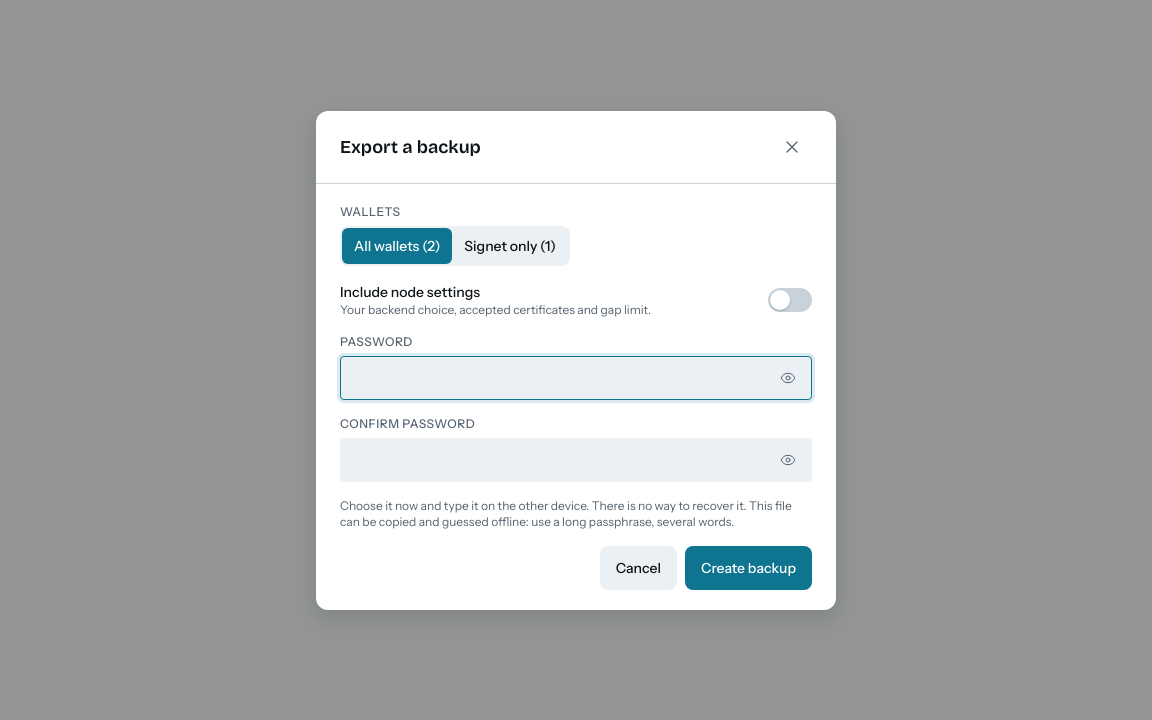
Test: exporting a backup › the network scope sends only that network's ids
This screenshot has width=1152, height=720.
Click the radio button labelled "Signet only (1)". click: (510, 246)
box: [452,228,568,264]
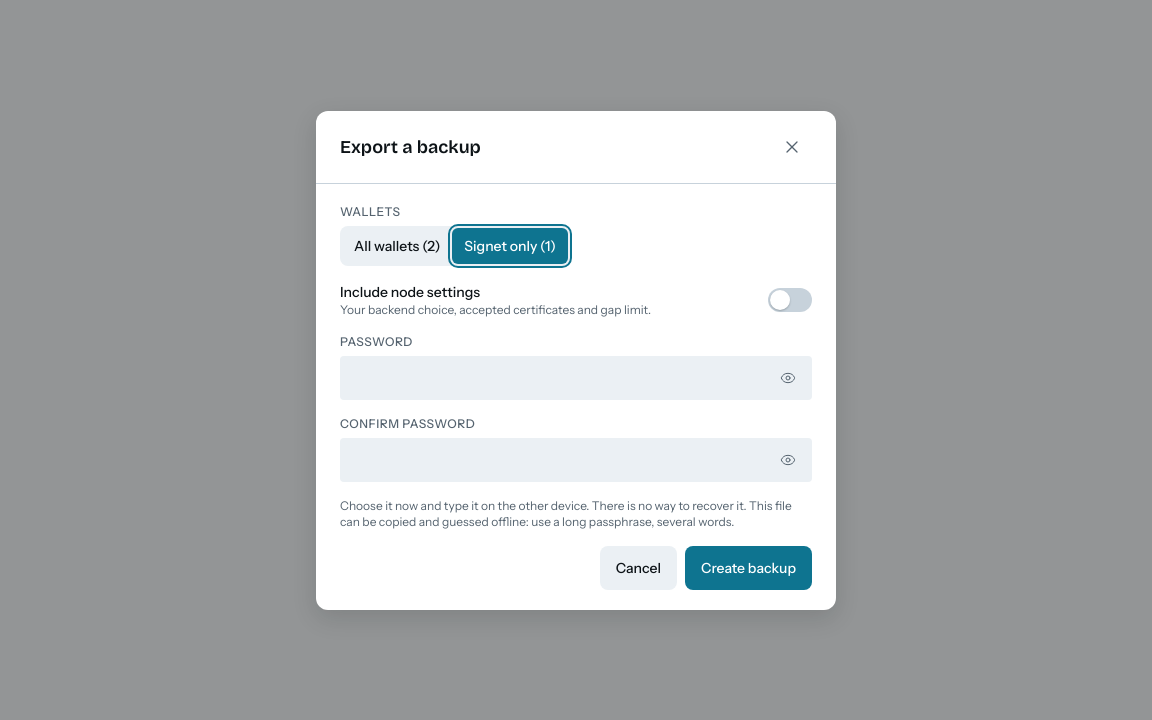
Type "correct horse" into the password field labelled "Password". click: (576, 378)
box: [340,356,812,400]
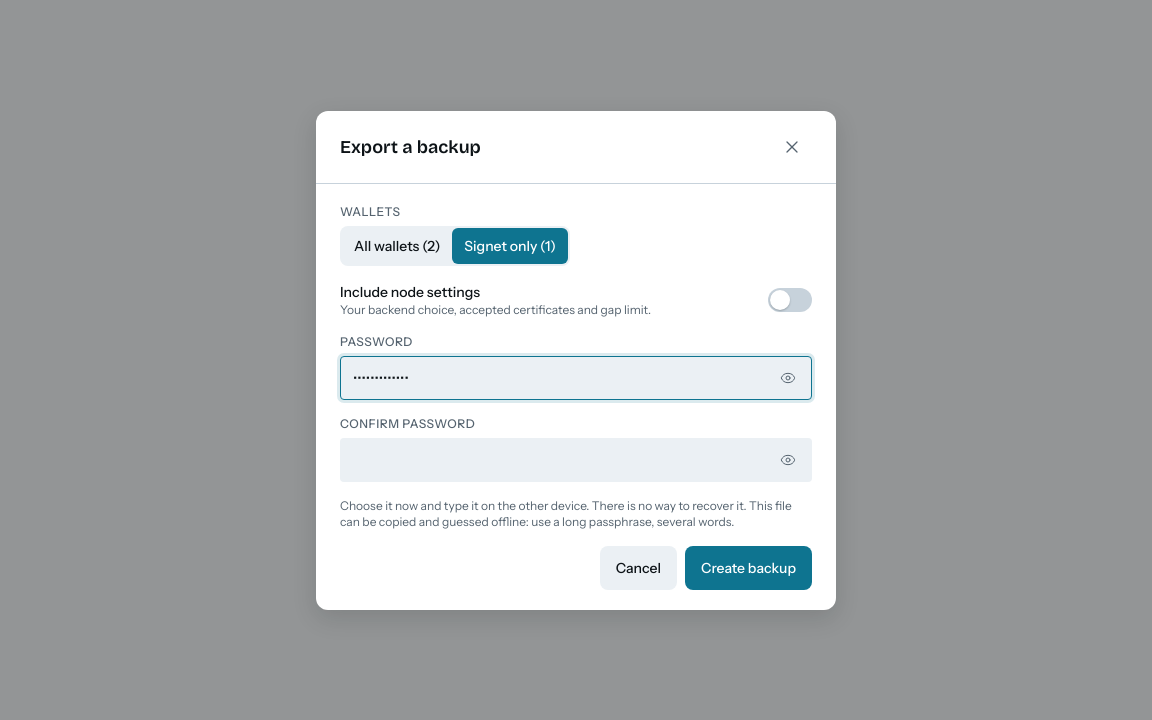
Type "correct horse" into the password field labelled "Confirm password". click: (576, 460)
box: [340,438,812,482]
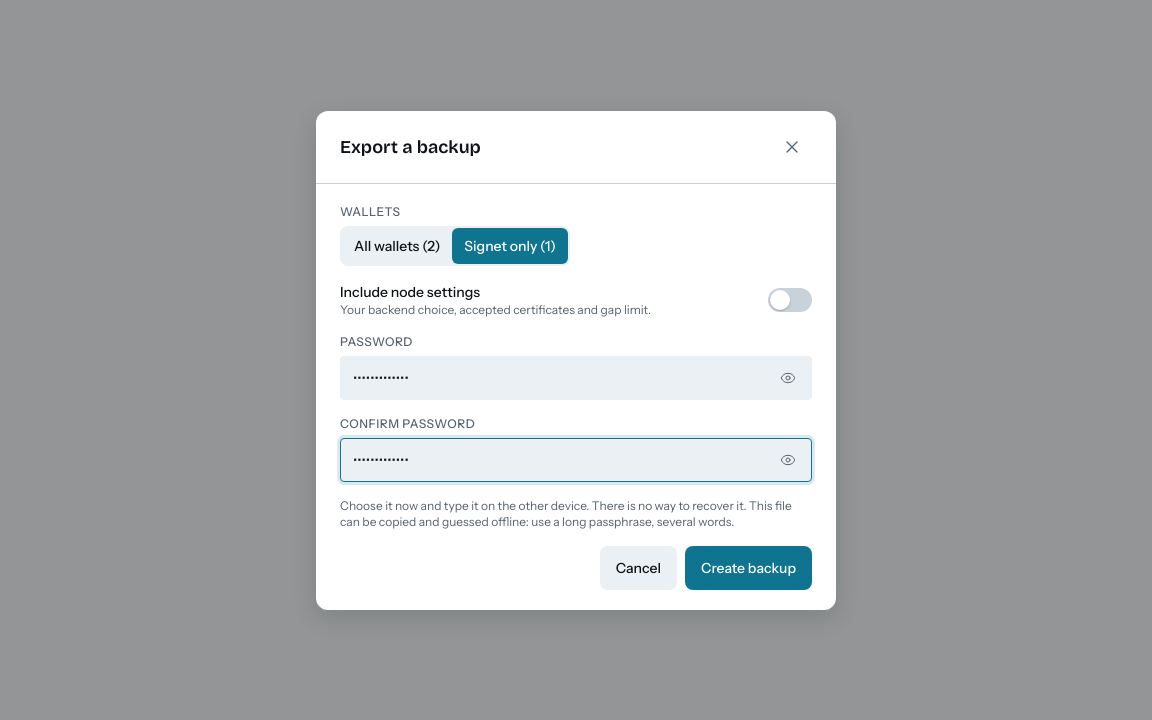
Click the button "Create backup". click: (748, 568)
box: [685,546,812,590]
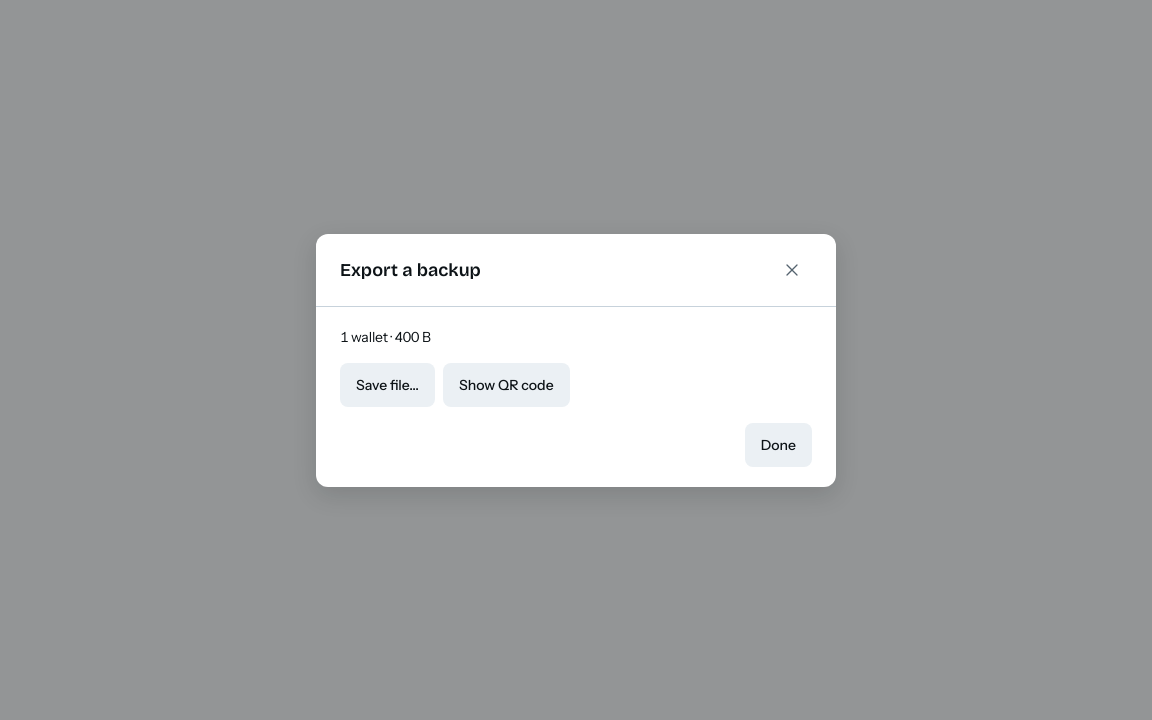
Expected: the text "1 wallet · 400 B" is shown, [340,328,431,346]
